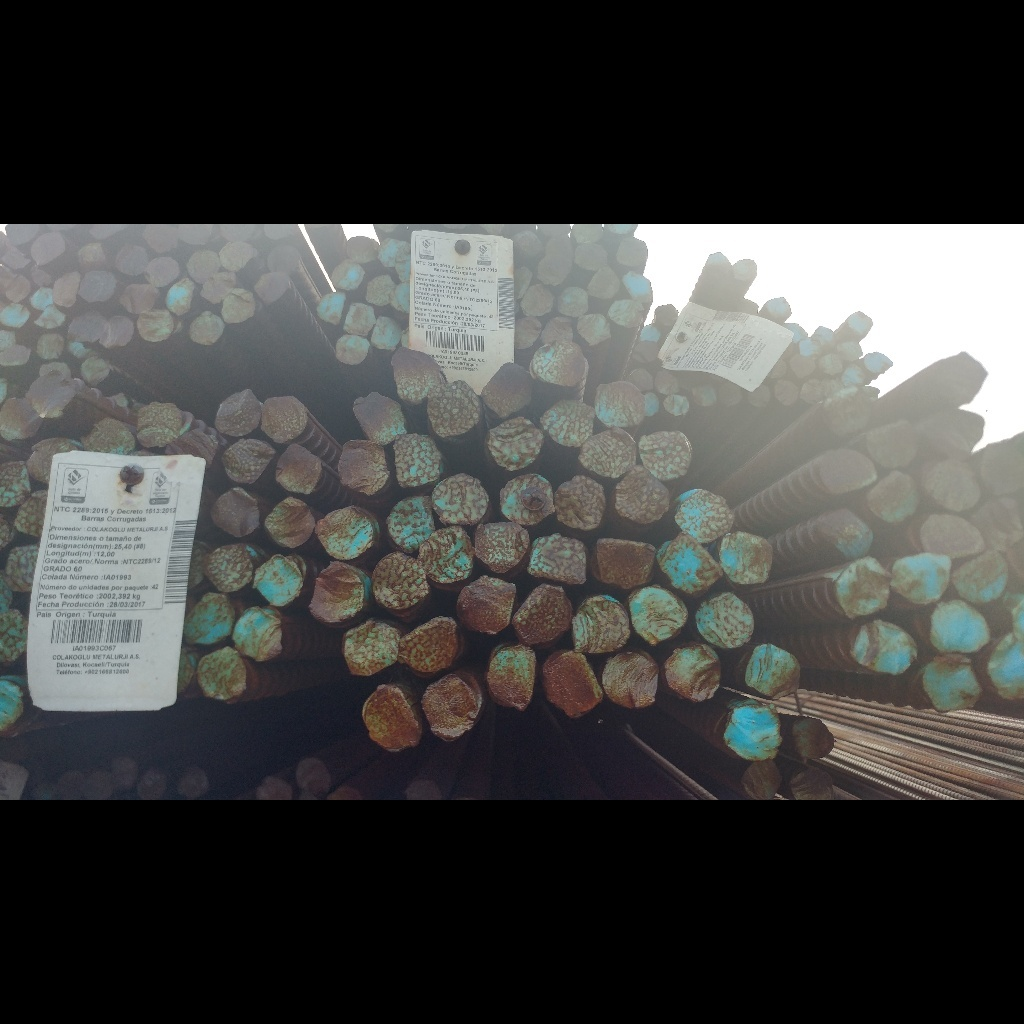dipstick: (659, 532, 723, 598), (543, 652, 603, 718), (363, 683, 420, 750), (455, 575, 516, 637), (420, 674, 476, 740), (612, 466, 671, 526), (723, 704, 783, 763), (514, 583, 572, 644), (852, 621, 918, 674), (834, 556, 891, 617), (922, 653, 984, 709), (372, 553, 430, 611), (400, 615, 457, 674), (928, 601, 992, 653), (674, 489, 734, 544), (487, 645, 538, 709), (571, 597, 629, 653), (630, 587, 685, 646), (593, 536, 655, 588), (600, 652, 658, 707), (664, 646, 721, 701), (417, 527, 474, 582), (343, 619, 398, 675), (307, 566, 363, 621), (429, 380, 481, 439), (890, 554, 950, 605), (695, 595, 755, 646), (487, 416, 543, 470), (579, 428, 637, 479), (925, 460, 984, 510), (745, 644, 799, 698), (719, 531, 774, 584), (390, 348, 443, 403), (554, 474, 604, 532), (475, 521, 529, 574), (317, 505, 371, 558), (919, 513, 984, 557), (499, 473, 554, 525), (480, 362, 532, 417), (432, 474, 487, 526), (953, 552, 1009, 603), (352, 391, 405, 444), (231, 607, 282, 662), (927, 408, 985, 456), (393, 434, 442, 490), (817, 510, 874, 558), (530, 534, 588, 581), (253, 552, 302, 607), (541, 399, 597, 446), (209, 485, 260, 536), (868, 470, 920, 520), (198, 645, 246, 699), (987, 632, 1024, 701), (639, 431, 691, 480), (265, 496, 314, 548), (274, 442, 321, 496), (386, 495, 432, 550), (185, 590, 231, 645), (260, 396, 310, 445), (867, 420, 918, 468), (942, 349, 989, 401), (822, 386, 872, 434), (204, 542, 252, 592), (222, 438, 274, 484), (820, 449, 876, 491), (980, 497, 1024, 548), (534, 343, 585, 387), (27, 439, 76, 484), (24, 378, 76, 420), (983, 439, 1023, 492), (215, 391, 263, 435), (595, 382, 641, 426), (136, 401, 180, 445), (165, 429, 218, 465), (2, 396, 43, 442), (794, 717, 835, 760), (5, 542, 40, 592), (14, 488, 48, 538), (89, 417, 135, 453), (1, 607, 29, 665), (742, 760, 781, 797), (1, 461, 30, 509), (1, 678, 25, 736), (189, 309, 225, 347), (76, 271, 116, 303), (221, 288, 257, 323), (252, 271, 292, 302), (119, 282, 159, 313), (521, 283, 556, 317), (99, 315, 134, 349), (31, 233, 66, 267), (68, 309, 105, 341), (51, 270, 83, 307), (792, 770, 831, 800), (343, 302, 377, 336), (620, 270, 653, 305), (137, 309, 172, 342), (175, 767, 212, 798), (537, 253, 574, 283), (200, 272, 238, 301), (115, 244, 148, 277), (296, 759, 329, 792), (576, 313, 611, 344), (371, 314, 401, 350), (587, 266, 619, 299), (336, 334, 370, 365), (186, 249, 219, 280), (331, 261, 365, 291), (143, 256, 179, 284), (556, 286, 589, 316), (512, 315, 541, 349), (165, 279, 194, 313), (607, 300, 643, 327), (573, 245, 609, 272), (138, 767, 169, 798), (377, 238, 409, 268), (316, 291, 346, 323), (111, 759, 139, 793), (267, 245, 302, 272), (219, 241, 254, 268), (366, 273, 393, 307), (616, 238, 647, 267), (143, 225, 178, 250), (78, 242, 107, 272), (542, 317, 573, 344), (256, 776, 290, 800), (56, 771, 84, 800), (34, 332, 64, 359), (83, 770, 113, 797), (513, 231, 545, 256), (80, 357, 110, 383), (387, 282, 412, 312), (178, 225, 215, 245), (344, 237, 376, 260), (178, 648, 192, 700), (4, 275, 30, 302), (1, 304, 29, 329), (2, 344, 32, 367), (775, 378, 800, 405), (33, 308, 65, 329), (406, 781, 441, 800), (1, 512, 17, 553), (5, 245, 30, 271), (222, 225, 258, 243), (29, 285, 54, 310), (790, 353, 815, 377), (691, 383, 716, 407), (634, 340, 658, 365), (627, 367, 652, 391), (764, 297, 792, 318), (705, 253, 732, 274), (39, 363, 72, 380), (864, 353, 892, 373), (654, 370, 678, 393), (847, 311, 872, 333), (731, 259, 757, 280), (717, 382, 743, 403), (663, 395, 689, 416), (89, 225, 128, 239), (516, 265, 533, 297), (6, 225, 38, 242), (836, 340, 863, 360), (394, 250, 410, 283), (800, 381, 823, 403), (655, 303, 678, 325), (840, 363, 865, 383), (782, 323, 808, 342), (746, 386, 770, 406), (571, 225, 601, 241), (819, 354, 843, 373), (265, 225, 295, 240), (641, 392, 658, 417), (544, 239, 574, 253), (766, 358, 787, 377), (812, 327, 834, 345), (32, 268, 54, 285), (798, 338, 817, 355), (539, 225, 571, 235), (1, 330, 18, 347), (606, 225, 636, 234), (639, 326, 658, 340)
